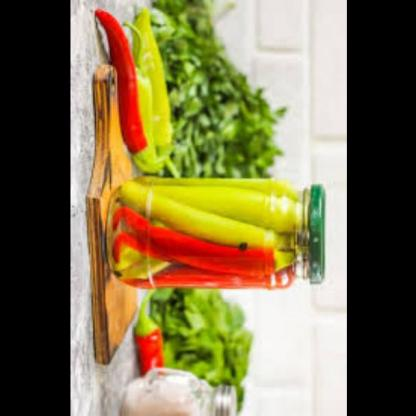hot pepper: (109, 174, 312, 299), (117, 6, 176, 175), (96, 4, 153, 167), (126, 289, 170, 388)
